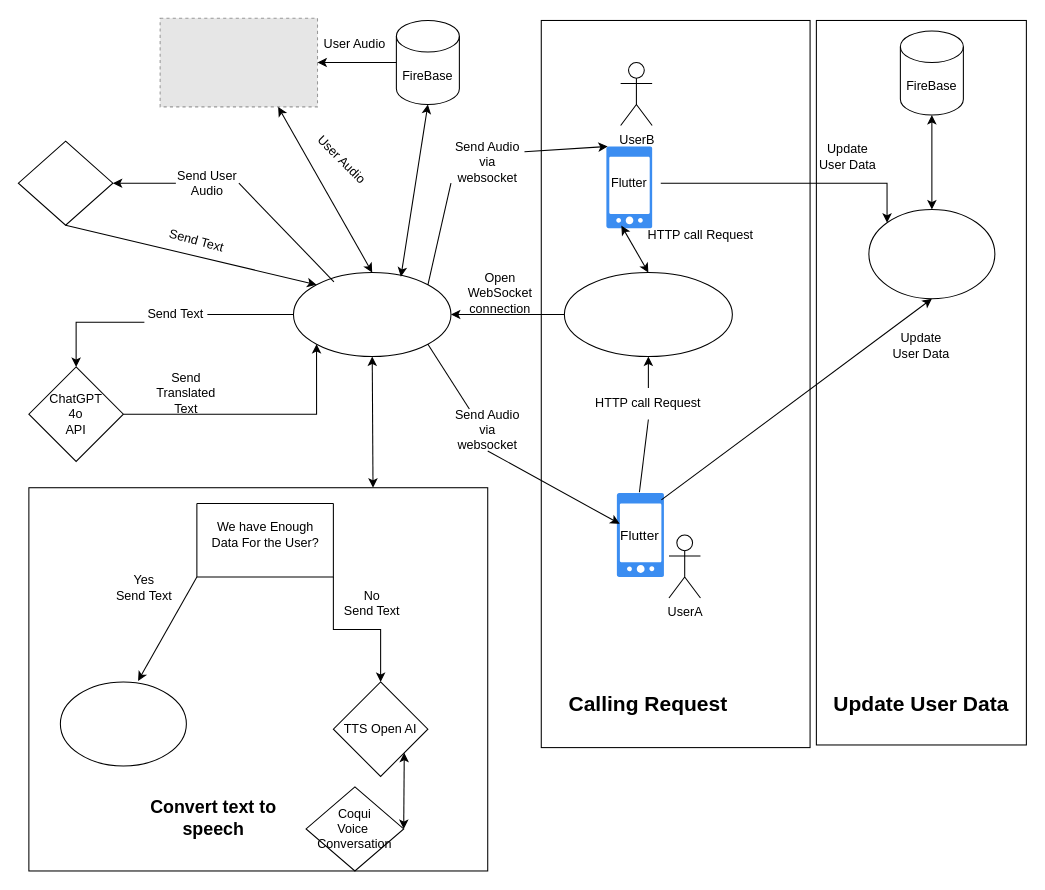
Image size: 1045x890. Some labels were removed from this diagram. Grey dashed boxes stand in for pictures. Each missing label, with the centre of its shape:
"Call Management Service" belongs at point 647,313.
"Central Server" belongs at point 371,313.
"Open AI Whisper API" belongs at point 65,182.
"User Management Service" belongs at point 931,253.
"Users coqui tts Model" belongs at point 122,723.
